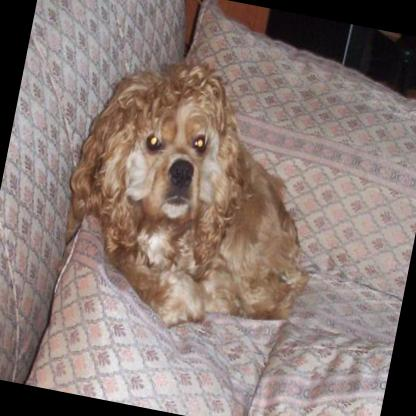cocker_spaniel: (42, 38, 344, 357)
